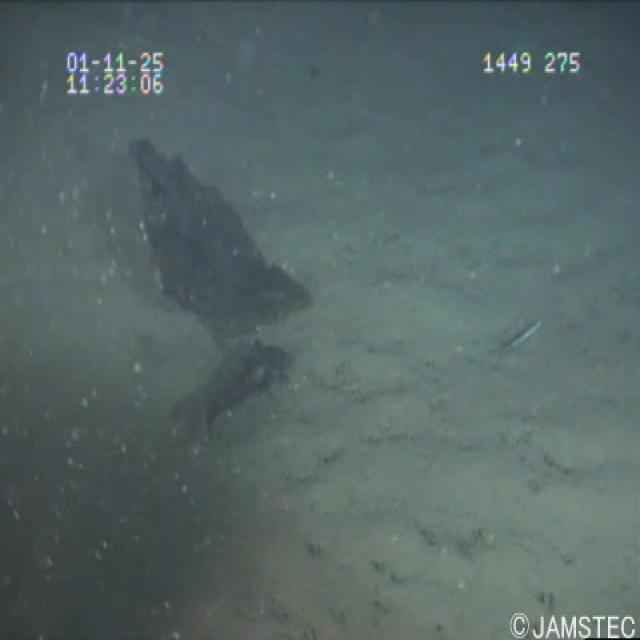plastic: (112, 123, 319, 343)
